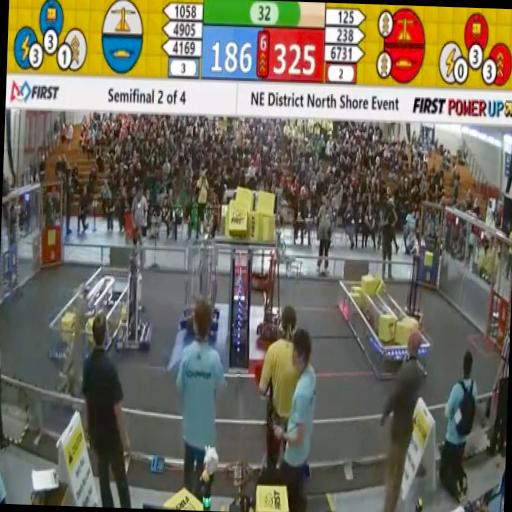robot: (58, 278, 102, 421), (255, 238, 298, 348), (181, 236, 225, 336), (126, 224, 156, 356), (400, 250, 434, 338), (248, 213, 279, 290)
